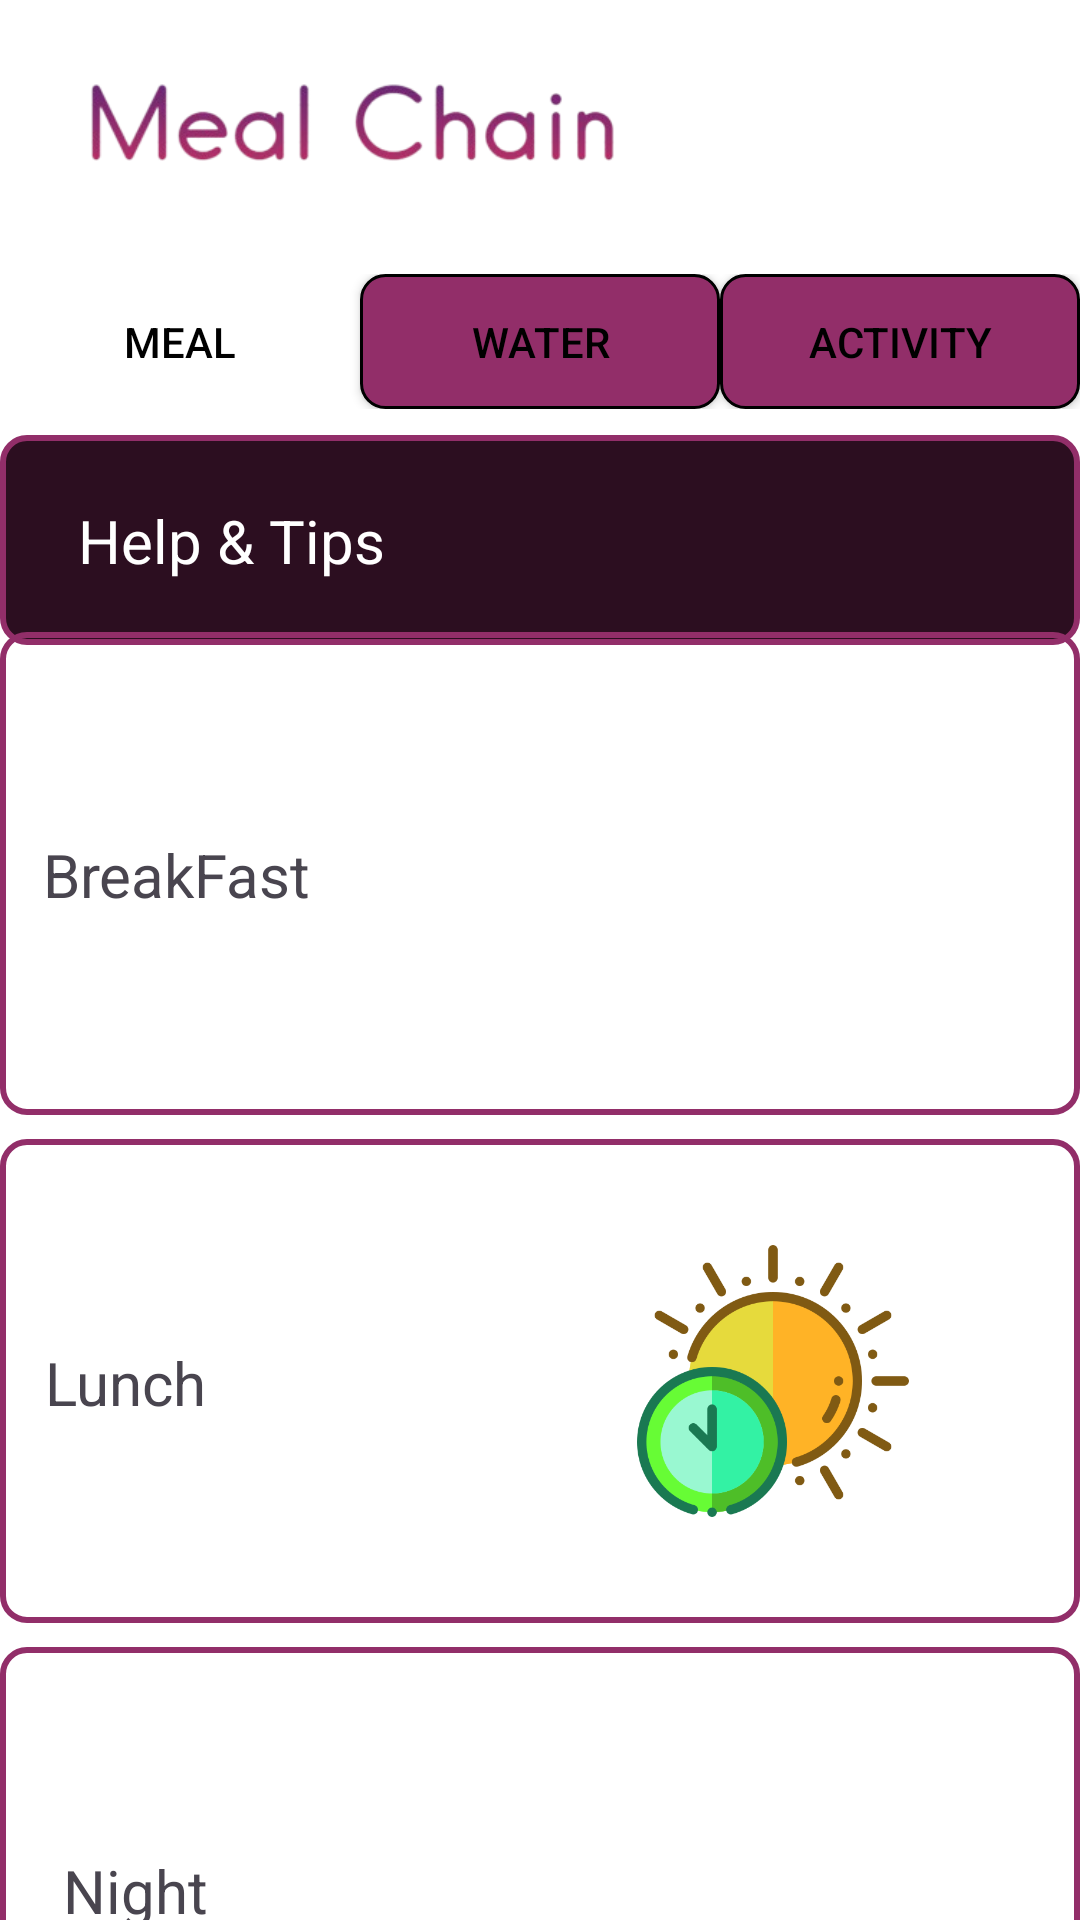

Icons on this 1080px x 1920px Android screen, each with the point to tap as point (x, y):
clock: point (773, 1381)
